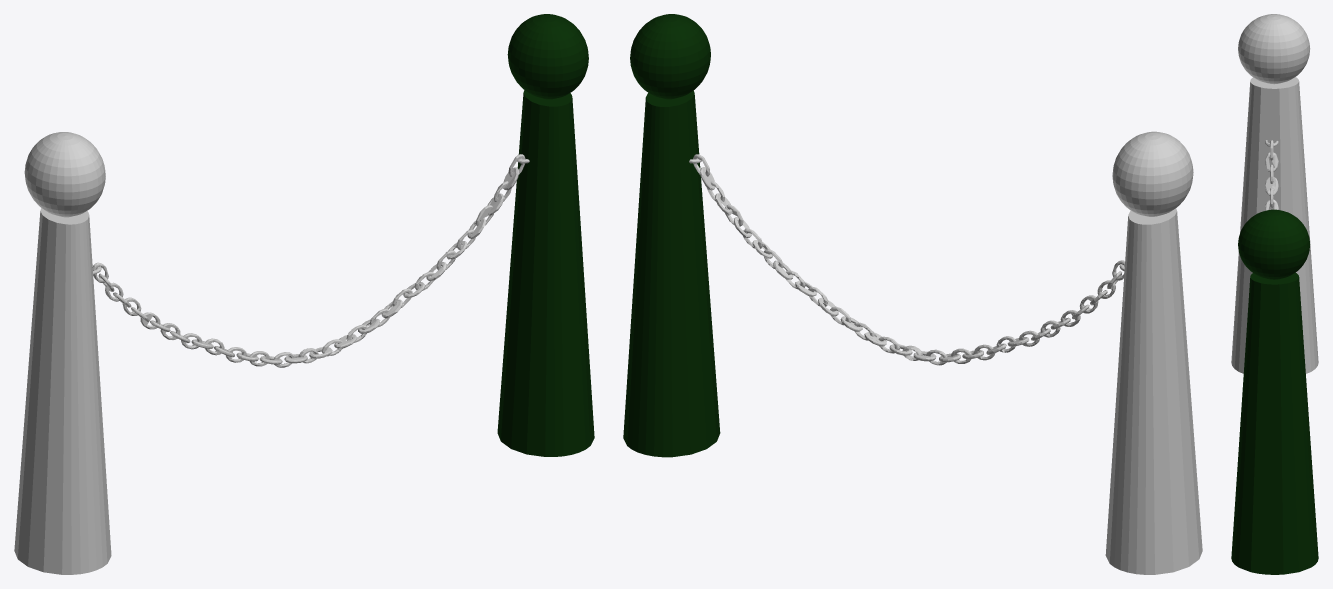
File: poteau.obj
3 views of the same model, side by side, from view 1: azimuth 30°, elevation 25°; view 2: azimuth 150°, elevation 25°; view 3: azimuth 270°, elevation 25° (orthographic). The views are drawn at different scales.
Visible parts, largest first — view 1: Torus.015; view 2: Torus.015; view 3: Torus.015.
Boxes of the visible parts, x1=… form: Torus.015: x1=14, y1=14, x2=594, y2=574; Torus.015: x1=623, y1=14, x2=1202, y2=574; Torus.015: x1=1231, y1=14, x2=1318, y2=574.
Size of the model in its own units: 2.34 by 1.66 by 0.3781.
